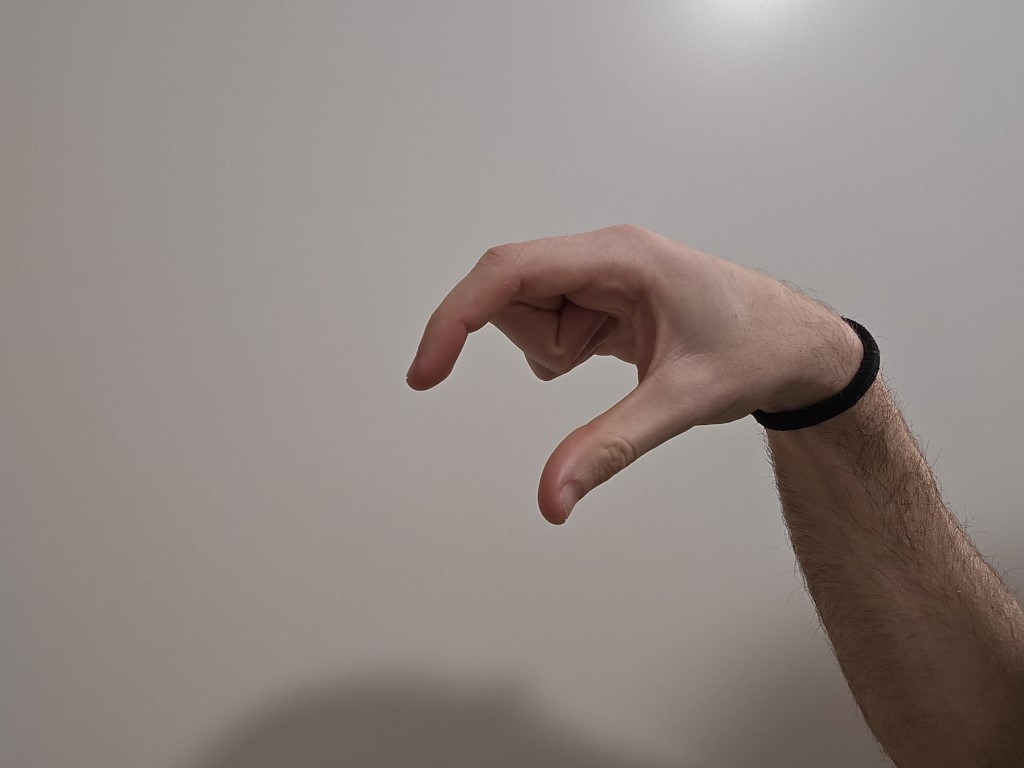q: (382, 190, 751, 550)
